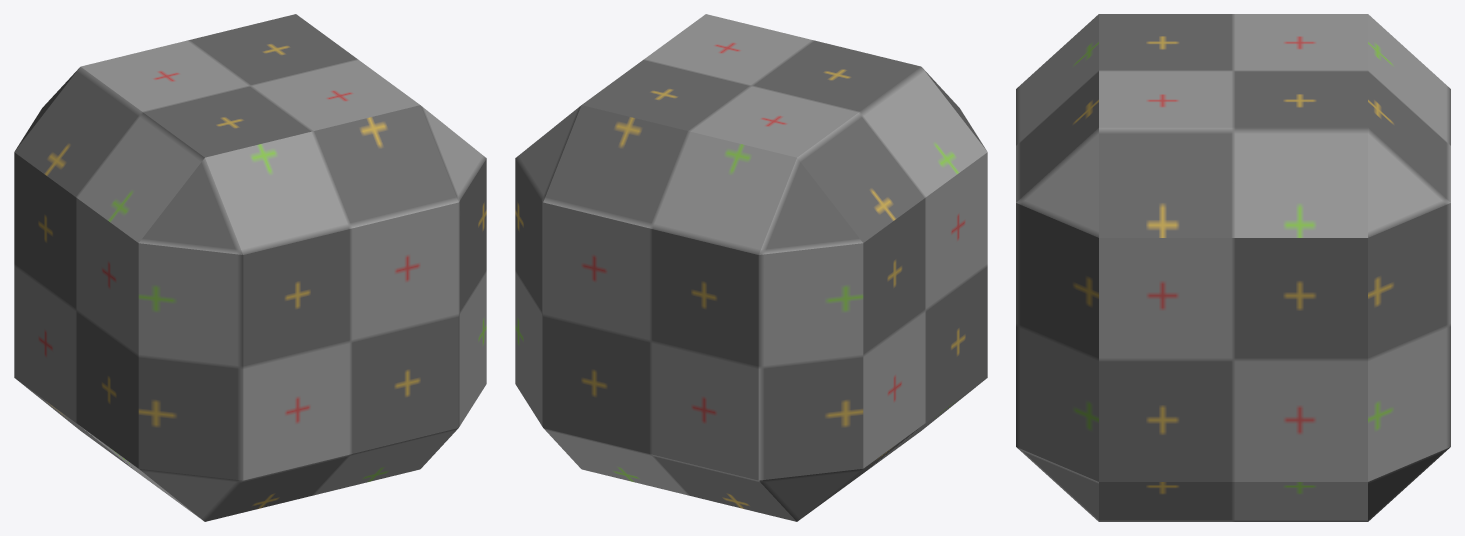
File: ball.obj
3 views of the same model, side by side, from view 1: azimuth 30°, elevation 25°; view 2: azimuth 150°, elevation 25°; view 3: azimuth 270°, elevation 25° (orthographic). The views are drawn at different scales.
Visible parts, largest first — view 1: Cube.001; view 2: Cube.001; view 3: Cube.001.
Part boxes in pixels (x1,y1,x2,y2): Cube.001: [14, 14, 486, 521]; Cube.001: [515, 14, 987, 521]; Cube.001: [1016, 14, 1450, 521].
Size of the model in its own units: 1.87 by 1.87 by 1.87.
